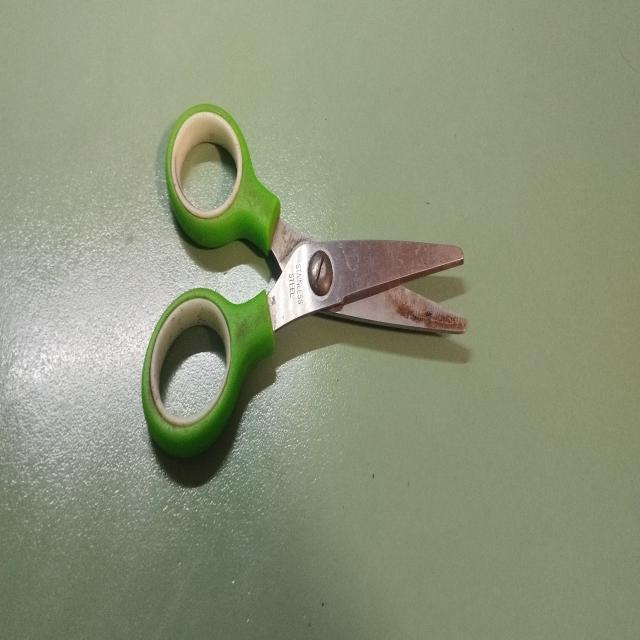tesoura: (135, 92, 472, 466)
